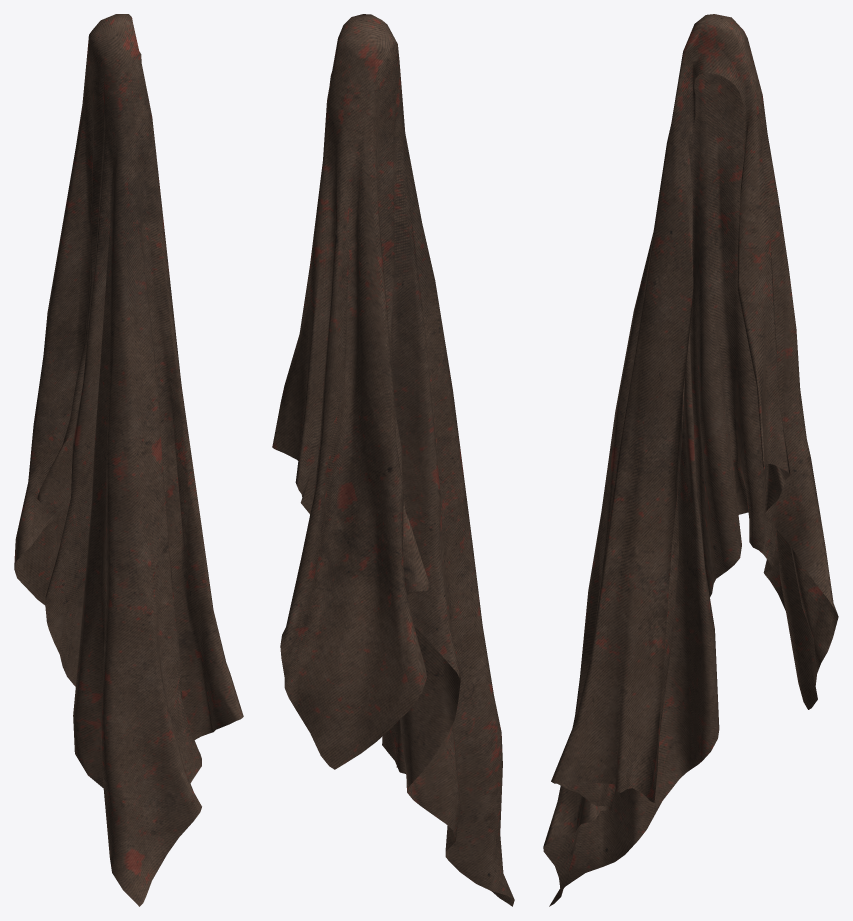
The model's file is Cloth.fbx.
3 views of the same model, side by side, from view 1: azimuth 30°, elevation 25°; view 2: azimuth 150°, elevation 25°; view 3: azimuth 270°, elevation 25° (orthographic). The views are drawn at different scales.
Parts seen in each view (by area): view 1: fabric_M_fabric_0.001; view 2: fabric_M_fabric_0.001; view 3: fabric_M_fabric_0.001.
Boxes of the visible parts, <box> form: fabric_M_fabric_0.001: <box>14,14,243,906</box>; fabric_M_fabric_0.001: <box>272,14,514,906</box>; fabric_M_fabric_0.001: <box>543,14,838,906</box>.
Bounding box in the file's own units: 187 × 1031 × 300.
